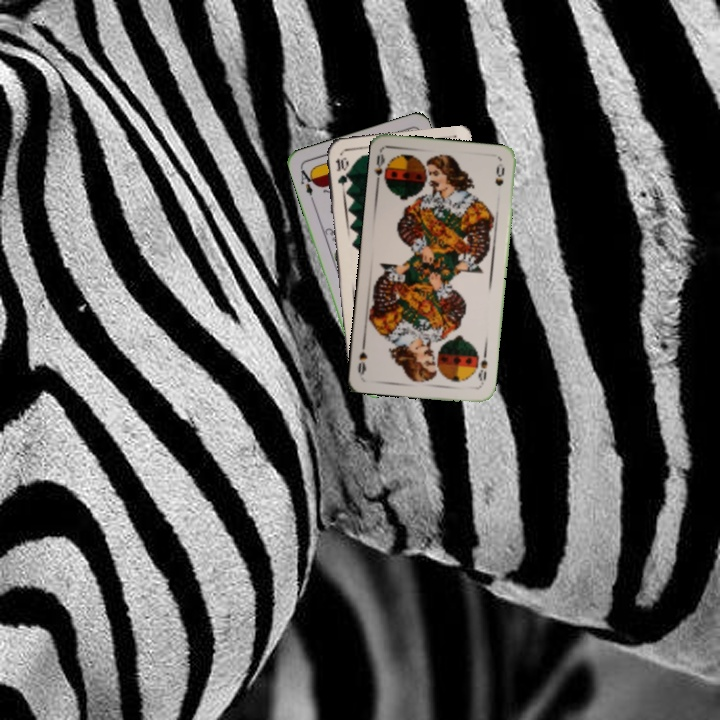EA: (297, 164, 318, 203)
G10: (331, 153, 350, 192)
SO: (371, 148, 391, 189), (474, 348, 490, 388)
